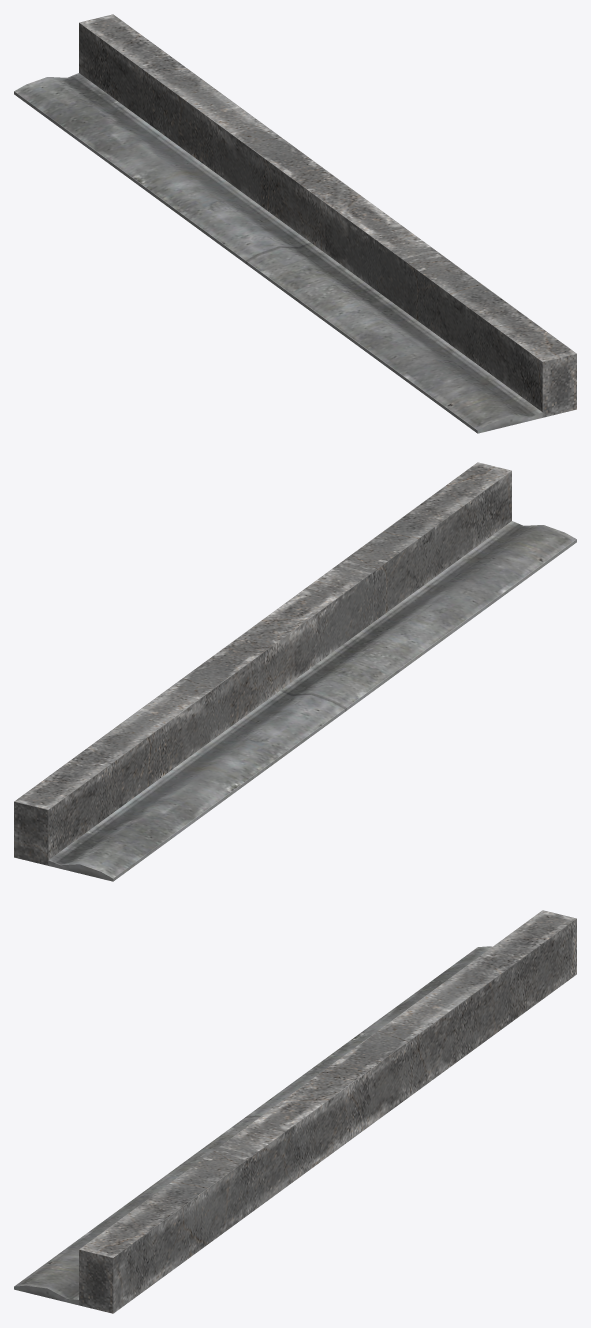
Rendered from HH_Curbstone_A_2m.fbx.
3 renders of one model, top to bottom at view 1: azimuth 30°, elevation 25°; view 2: azimuth 150°, elevation 25°; view 3: azimuth 330°, elevation 25°, orthographic.
Visible parts, largest first — view 1: HH_Curbstone_A_2m; view 2: HH_Curbstone_A_2m; view 3: HH_Curbstone_A_2m.
Boxes of the visible parts, left/top/right/bottom form: HH_Curbstone_A_2m: left=14, top=14, right=576, bottom=433; HH_Curbstone_A_2m: left=14, top=462, right=576, bottom=881; HH_Curbstone_A_2m: left=14, top=910, right=576, bottom=1313.
Size of the model in its own units: 24.72 by 13.28 by 200.
